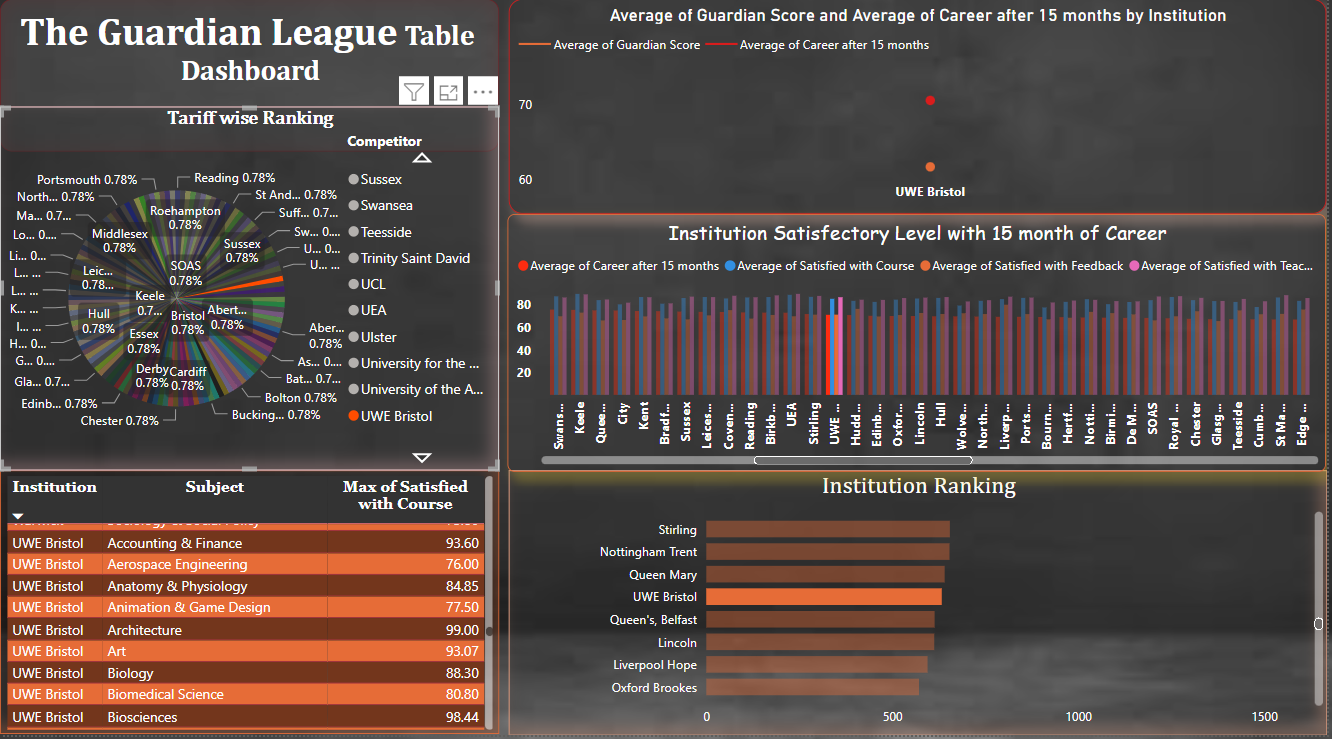

The dashboard page shown, as its layout file describes it:
{"tool":"powerbi","page":{"name":"Page 1","canvas":[1280,720],"ordinal":0},"visuals":[{"type":"clusteredBarChart","title":"Institution Ranking","fields":{"Category":["Institution Level Data.Institution"],"Y":["Sum(Institution Level Data.Rank)"]},"box":[490.9,464.3,789.9,255.7],"z":0},{"type":"tableEx","fields":{"Values":["Subject Level Data.Institution","Subject Level Data.Subject","Max(Subject Level Data.Satisfied with Course)"]},"box":[0,464.3,481.2,254.5],"z":1000},{"type":"textbox","box":[0,10,481.2,147.5],"z":2000},{"type":"areaChart","fields":{"Category":["Institution Level Data.Institution"],"Y":["Avg(Institution Level Data.Guardian Score)","Avg(Institution Level Data.Career after 15 months)"]},"box":[490.9,9.6,788.7,207.4],"z":3000},{"type":"lineClusteredColumnComboChart","title":"Institution Satisfectory Level with 15 month of Career","fields":{"Category":["Institution Level Data.Institution"],"Y":["Avg(Institution Level Data.Career after 15 months)","Avg(Institution Level Data.Satisfied with Course)","Avg(Institution Level Data.Satisfied with Feedback)","Avg(Institution Level Data.Satisfied with Teaching)"]},"box":[490.9,217.1,789.9,248.4],"z":4000},{"type":"donutChart","title":"Competitor Ranking","fields":{"Category":["Institution (Competitor Institutions).Column2"],"Y":["Sum(Institution Level Data.Rank)"]},"box":[0,158,481.2,306.3],"z":5000}]}

Visuals, with their boxes in screenshot pixels (x1, y1, x2, y2), scaled from the page's 1280x720 canvas onto the 1332x739 screenshot:
"Institution Ranking" clusteredBarChart: BBox(511, 477, 1331, 738)
tableEx - Subject Level Data.Institution x Subject Level Data.Subject: BBox(0, 477, 501, 738)
textbox: BBox(0, 10, 501, 162)
areaChart - Institution Level Data.Institution x Avg(Institution Level Data.Guardian Score): BBox(511, 10, 1331, 223)
"Institution Satisfectory Level with 15 month of Career" lineClusteredColumnComboChart: BBox(511, 223, 1331, 478)
"Competitor Ranking" donutChart: BBox(0, 162, 501, 477)
